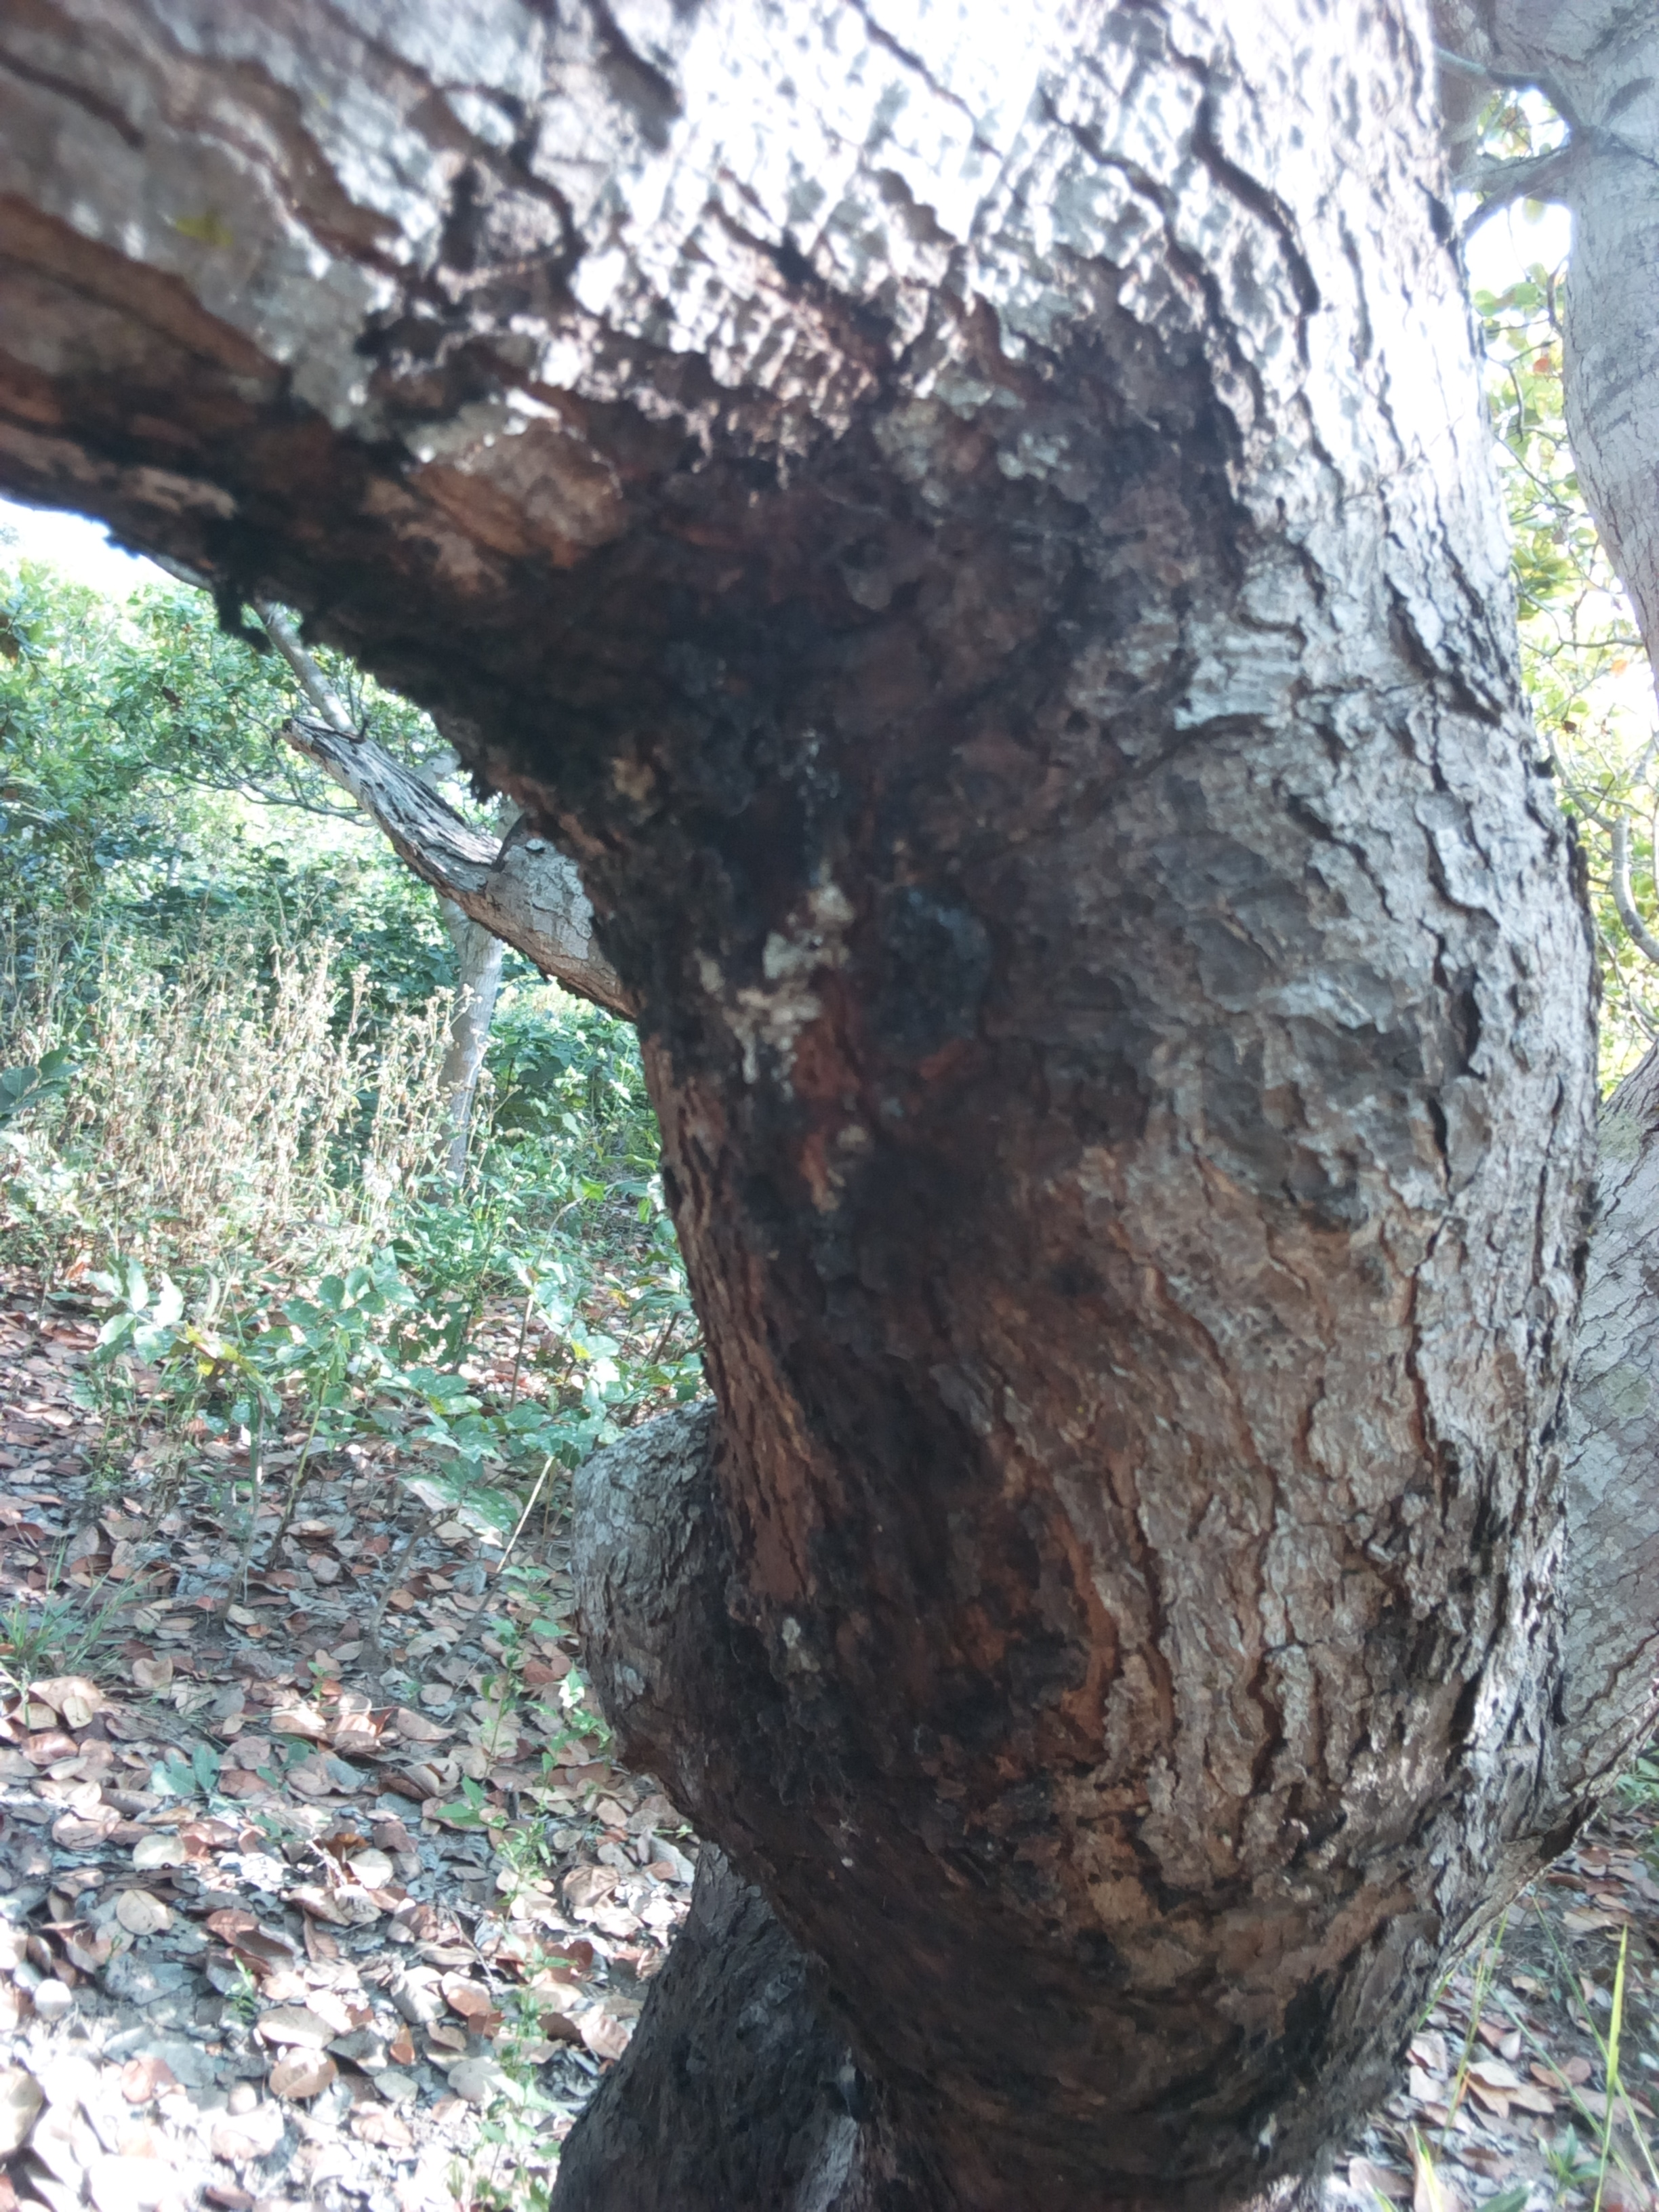Gommose: (521, 648, 1121, 2034)
